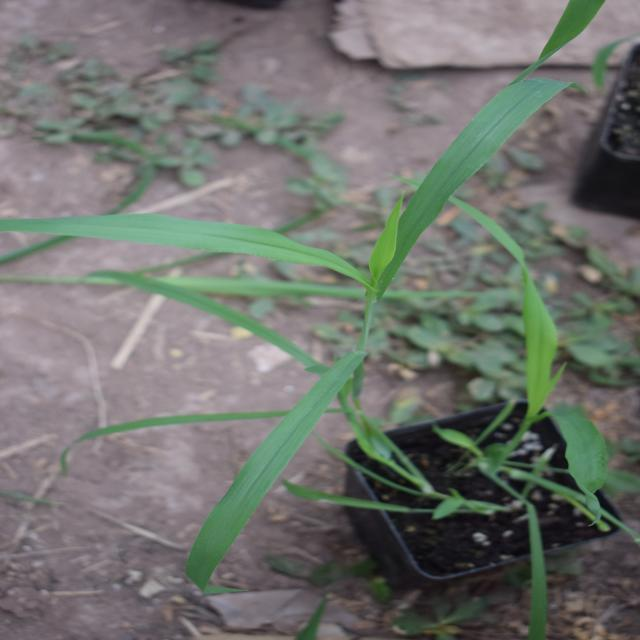crabgrass: (61, 93, 530, 536)
